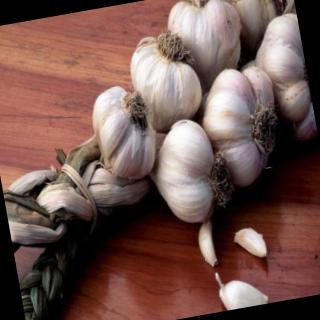Bawang Putih: (198, 64, 289, 190), (148, 115, 237, 230), (249, 11, 320, 148), (127, 28, 210, 137), (87, 81, 164, 187), (165, 1, 251, 85), (219, 276, 271, 313), (233, 227, 269, 263)
